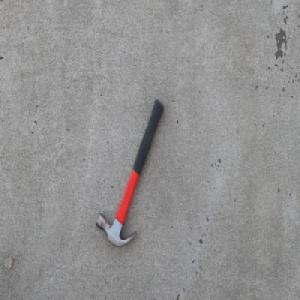Hammer: (95, 98, 164, 248)
